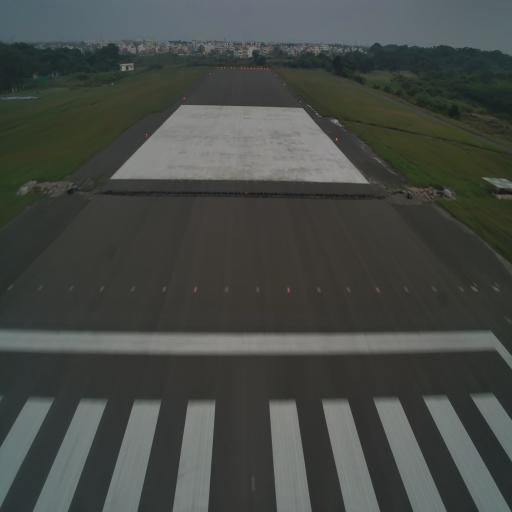off: (469, 280, 478, 297), (344, 282, 353, 297), (222, 281, 230, 297), (402, 281, 411, 295), (128, 282, 136, 296), (160, 282, 168, 296), (6, 281, 14, 294), (314, 285, 322, 298), (66, 282, 74, 294), (254, 282, 260, 298), (494, 280, 500, 296), (430, 281, 437, 294), (38, 281, 44, 295)
on: (284, 282, 291, 301), (98, 280, 106, 295), (374, 284, 382, 296), (192, 284, 199, 296)
